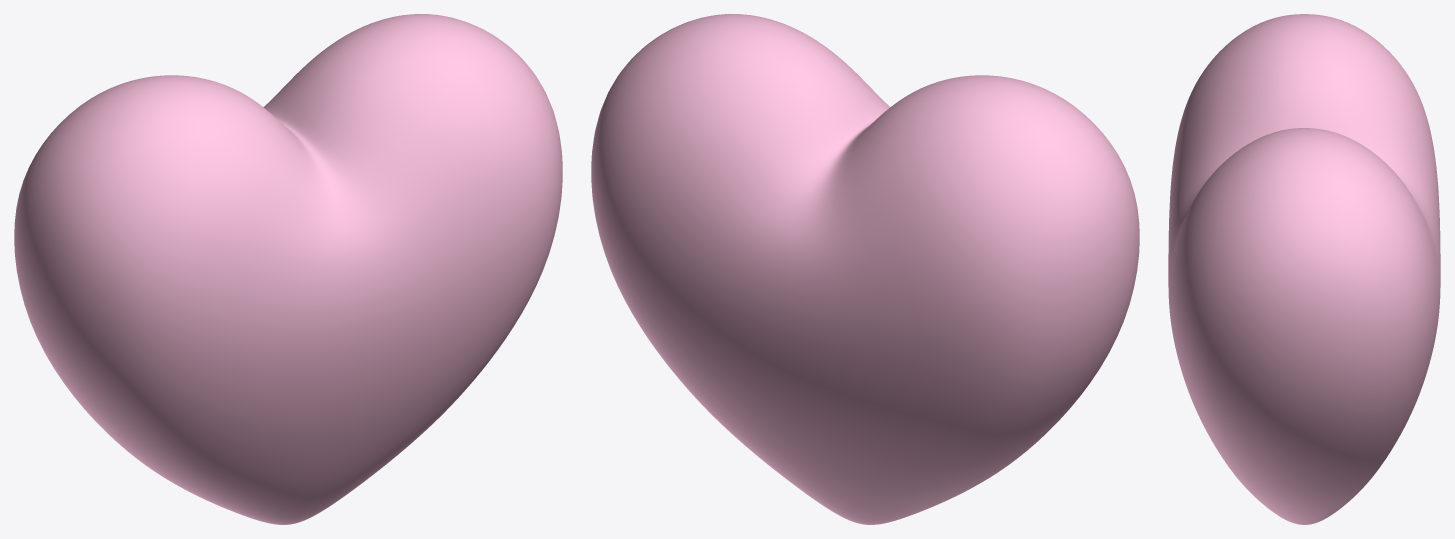
File: heart.glb
3 views of the same model, side by side, from view 1: azimuth 30°, elevation 25°; view 2: azimuth 150°, elevation 25°; view 3: azimuth 270°, elevation 25° (orthographic). The views are drawn at different scales.
Visible parts, largest first — view 1: 0008; view 2: 0008; view 3: 0008.
Part boxes in pixels (x1,y1,x2,y2): 0008: (14,14,562,524); 0008: (591,14,1139,524); 0008: (1168,14,1440,524).
Bounding box in the file's own units: 2.1 × 1.84 × 1.04.
